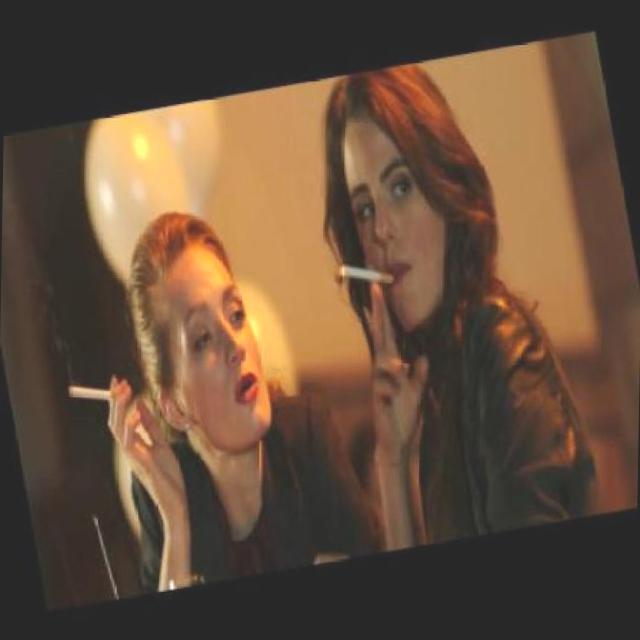smoke: (336, 252, 397, 295), (65, 372, 114, 408)
